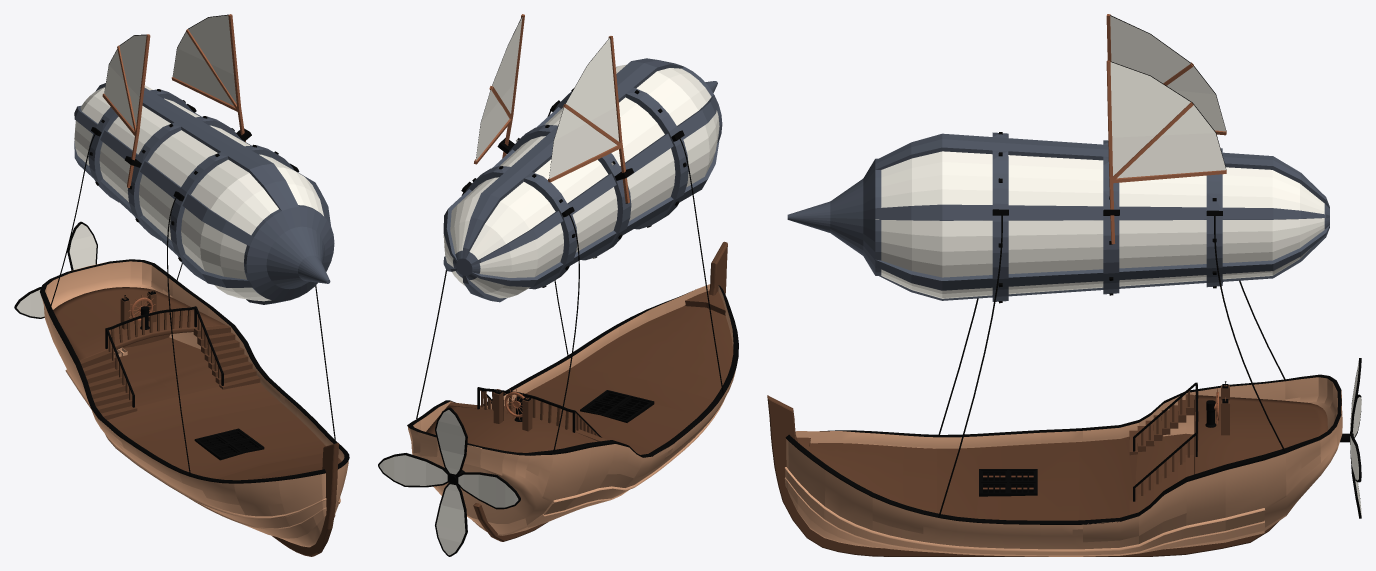
Rendered from boat v2.fbx.
3 views of the same model, side by side, from view 1: azimuth 30°, elevation 25°; view 2: azimuth 150°, elevation 25°; view 3: azimuth 270°, elevation 25° (orthographic). The views are drawn at different scales.
Visible parts, largest first — view 1: Cylinder.004, Cube.003, PoopDeck_lo.004, UpperDeck_lo, PoopDeck_lo, PoopDeck_lo.005, Hull_lo.001, Hull_lo.004, Plane.001, Hull_lo.006, Plane, Hull_lo.008 (+18 smaller); view 2: Cylinder.004, Cube.003, PoopDeck_lo.004, Plane.001, PoopDeck_lo.002, UpperDeck_lo, Hull_lo.023, PoopDeck_lo.003, Hull_lo.001, Hull_lo.025, Plane, Hull_lo.020 (+13 smaller); view 3: Cylinder.004, Cube.003, Hull_lo.001, PoopDeck_lo.004, UpperDeck_lo, PoopDeck_lo.005, PoopDeck_lo.002, Hull_lo.024, Keel, Hull_lo.019, PoopDeck_lo.003, Hull_lo.003 (+16 smaller).
Boxes of the visible parts, bbox=[...] form: Cylinder.004: bbox=[74, 83, 334, 304]; Cube.003: bbox=[102, 14, 245, 187]; PoopDeck_lo.004: bbox=[132, 403, 325, 478]; UpperDeck_lo: bbox=[53, 287, 225, 360]; PoopDeck_lo: bbox=[115, 337, 219, 406]; PoopDeck_lo.005: bbox=[107, 382, 281, 439]; Hull_lo.001: bbox=[105, 429, 340, 547]; Hull_lo.004: bbox=[278, 469, 323, 526]; Plane.001: bbox=[14, 221, 97, 318]; Hull_lo.006: bbox=[233, 477, 281, 516]; Plane: bbox=[194, 428, 264, 460]; Hull_lo.008: bbox=[179, 470, 239, 505]; Cylinder.004: bbox=[443, 58, 722, 302]; Cube.003: bbox=[474, 14, 629, 203]; PoopDeck_lo.004: bbox=[504, 366, 712, 449]; Plane.001: bbox=[378, 407, 520, 556]; PoopDeck_lo.002: bbox=[596, 306, 733, 382]; UpperDeck_lo: bbox=[426, 405, 598, 452]; Hull_lo.023: bbox=[412, 448, 554, 525]; PoopDeck_lo.003: bbox=[574, 352, 723, 400]; Hull_lo.001: bbox=[467, 380, 724, 535]; Hull_lo.025: bbox=[542, 443, 591, 502]; Plane: bbox=[580, 390, 654, 422]; Hull_lo.020: bbox=[576, 440, 616, 498]; Cylinder.004: bbox=[787, 132, 1329, 303]; Cube.003: bbox=[1106, 14, 1226, 244]; Hull_lo.001: bbox=[793, 445, 1286, 556]; PoopDeck_lo.004: bbox=[937, 442, 1079, 520]; UpperDeck_lo: bbox=[1194, 395, 1327, 474]; PoopDeck_lo.005: bbox=[1079, 436, 1137, 520]; PoopDeck_lo.002: bbox=[809, 443, 903, 504]; Hull_lo.024: bbox=[1225, 448, 1286, 517]; Keel: bbox=[783, 496, 1268, 556]; Hull_lo.019: bbox=[1186, 465, 1225, 529]; PoopDeck_lo.003: bbox=[903, 447, 937, 513]; Hull_lo.003: bbox=[787, 436, 826, 518].
Size of the model in its own units: 7467 by 18784 by 19511.
